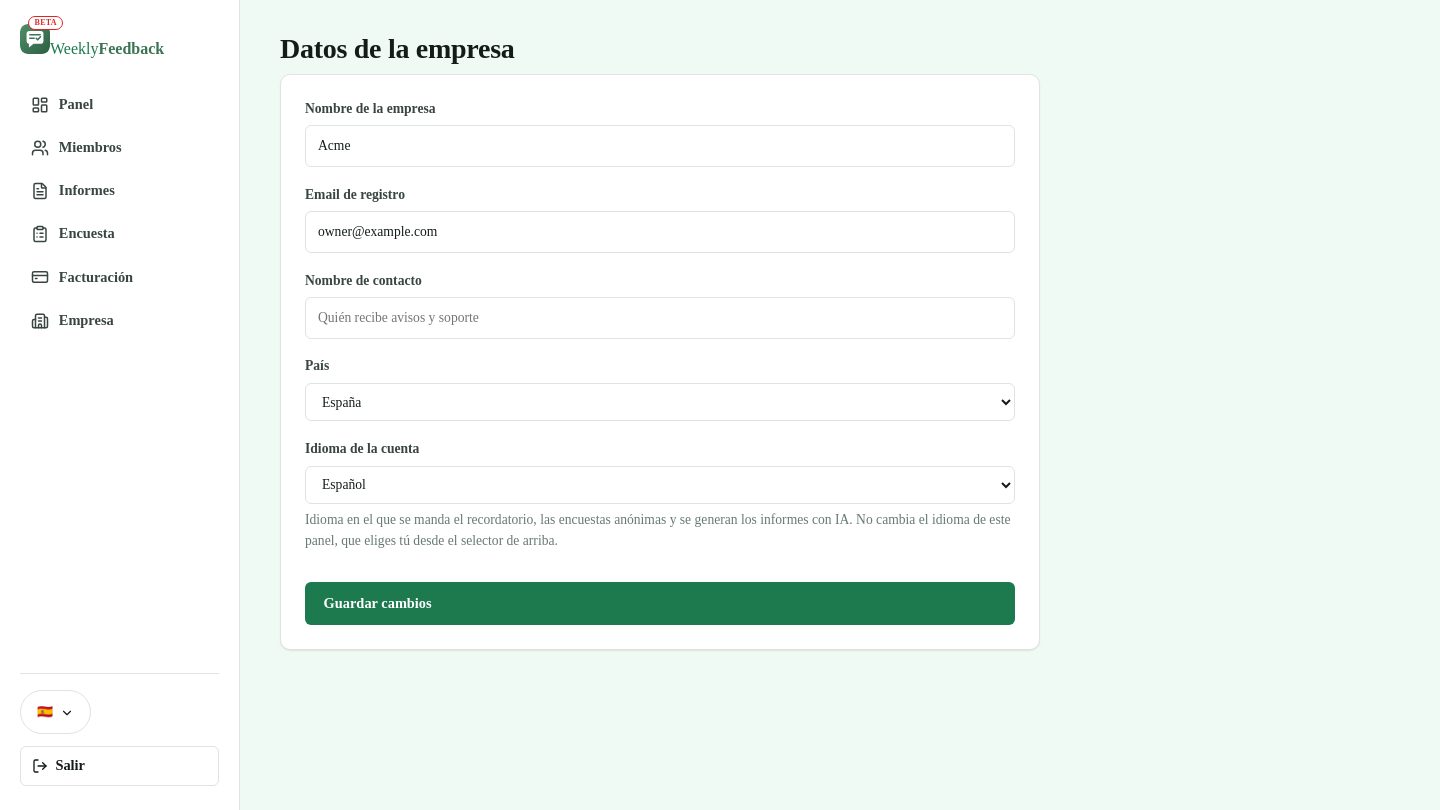
Test: SettingsPage › guardar manda solo name/country/contact_name/language, no el horario del feedback
Expected: the field showing "Acme" is shown, 305,125 -> 1015,167
Click the button "Guardar cambios": (378, 603) 305,582 -> 1015,625
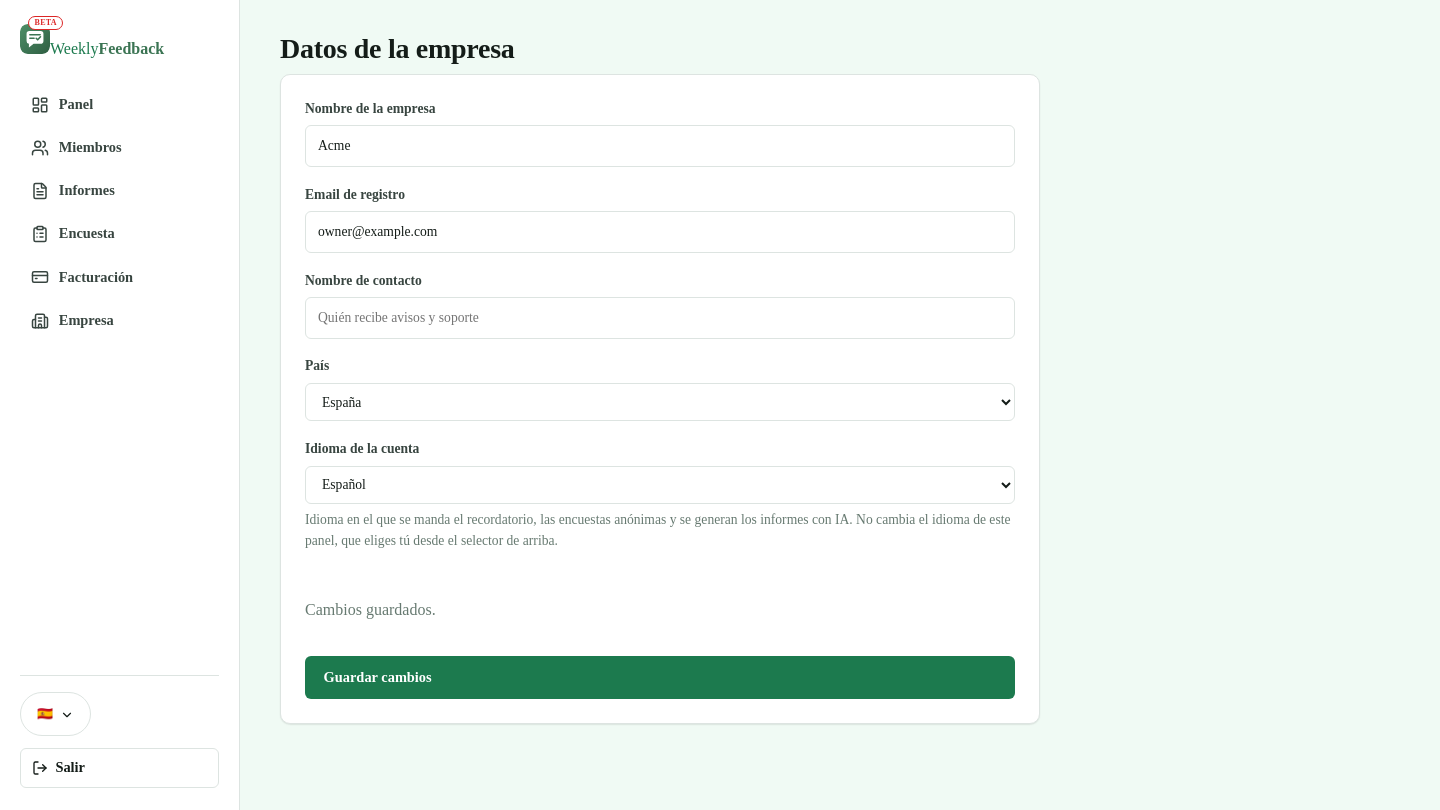
Expected: the text "Cambios guardados." is shown, 305,601 -> 436,618
